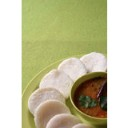idly: (34, 100, 68, 128), (40, 69, 72, 98), (58, 58, 86, 76), (81, 53, 107, 72)
